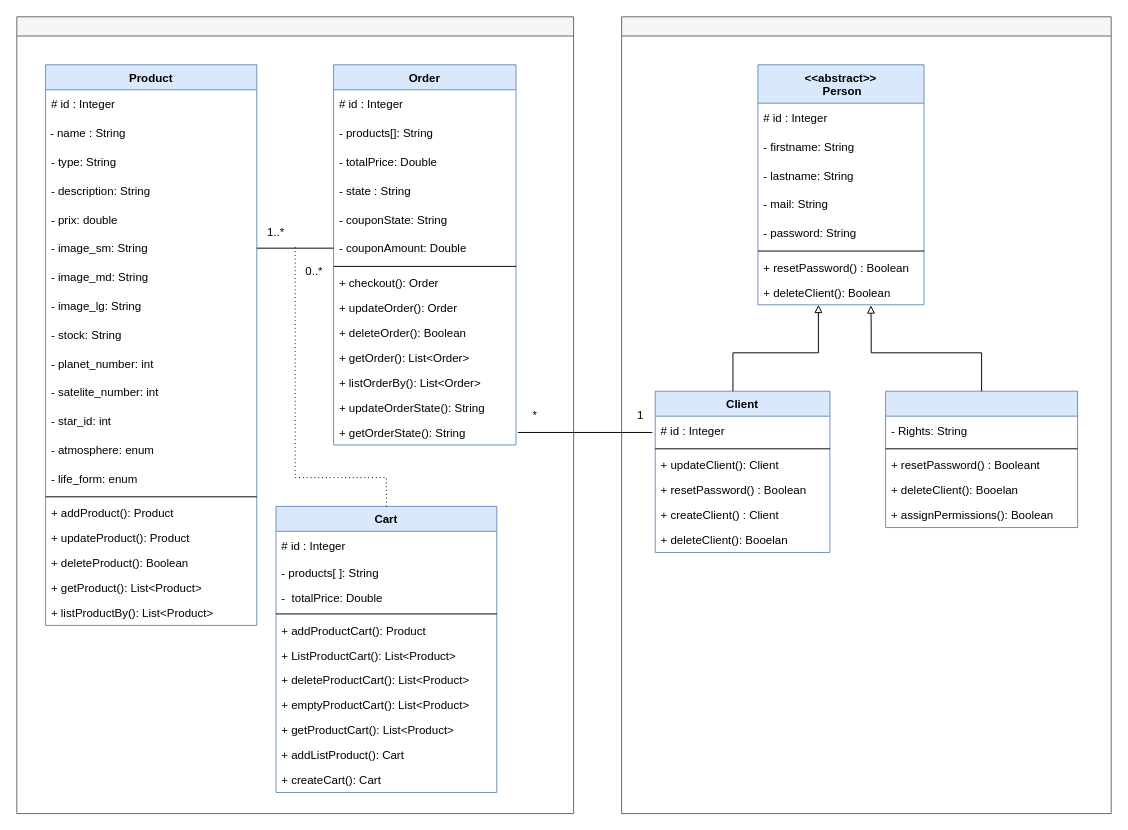
Image size: 1128x830. Some labels were removed from this diagram. The box of each missing label's shape, as (x1, y1, x2, y2) in pixels:
Admin: (885, 390, 1078, 528)
ADMINISTRATION: (621, 16, 1111, 814)
WEBSITE: (16, 16, 574, 814)
